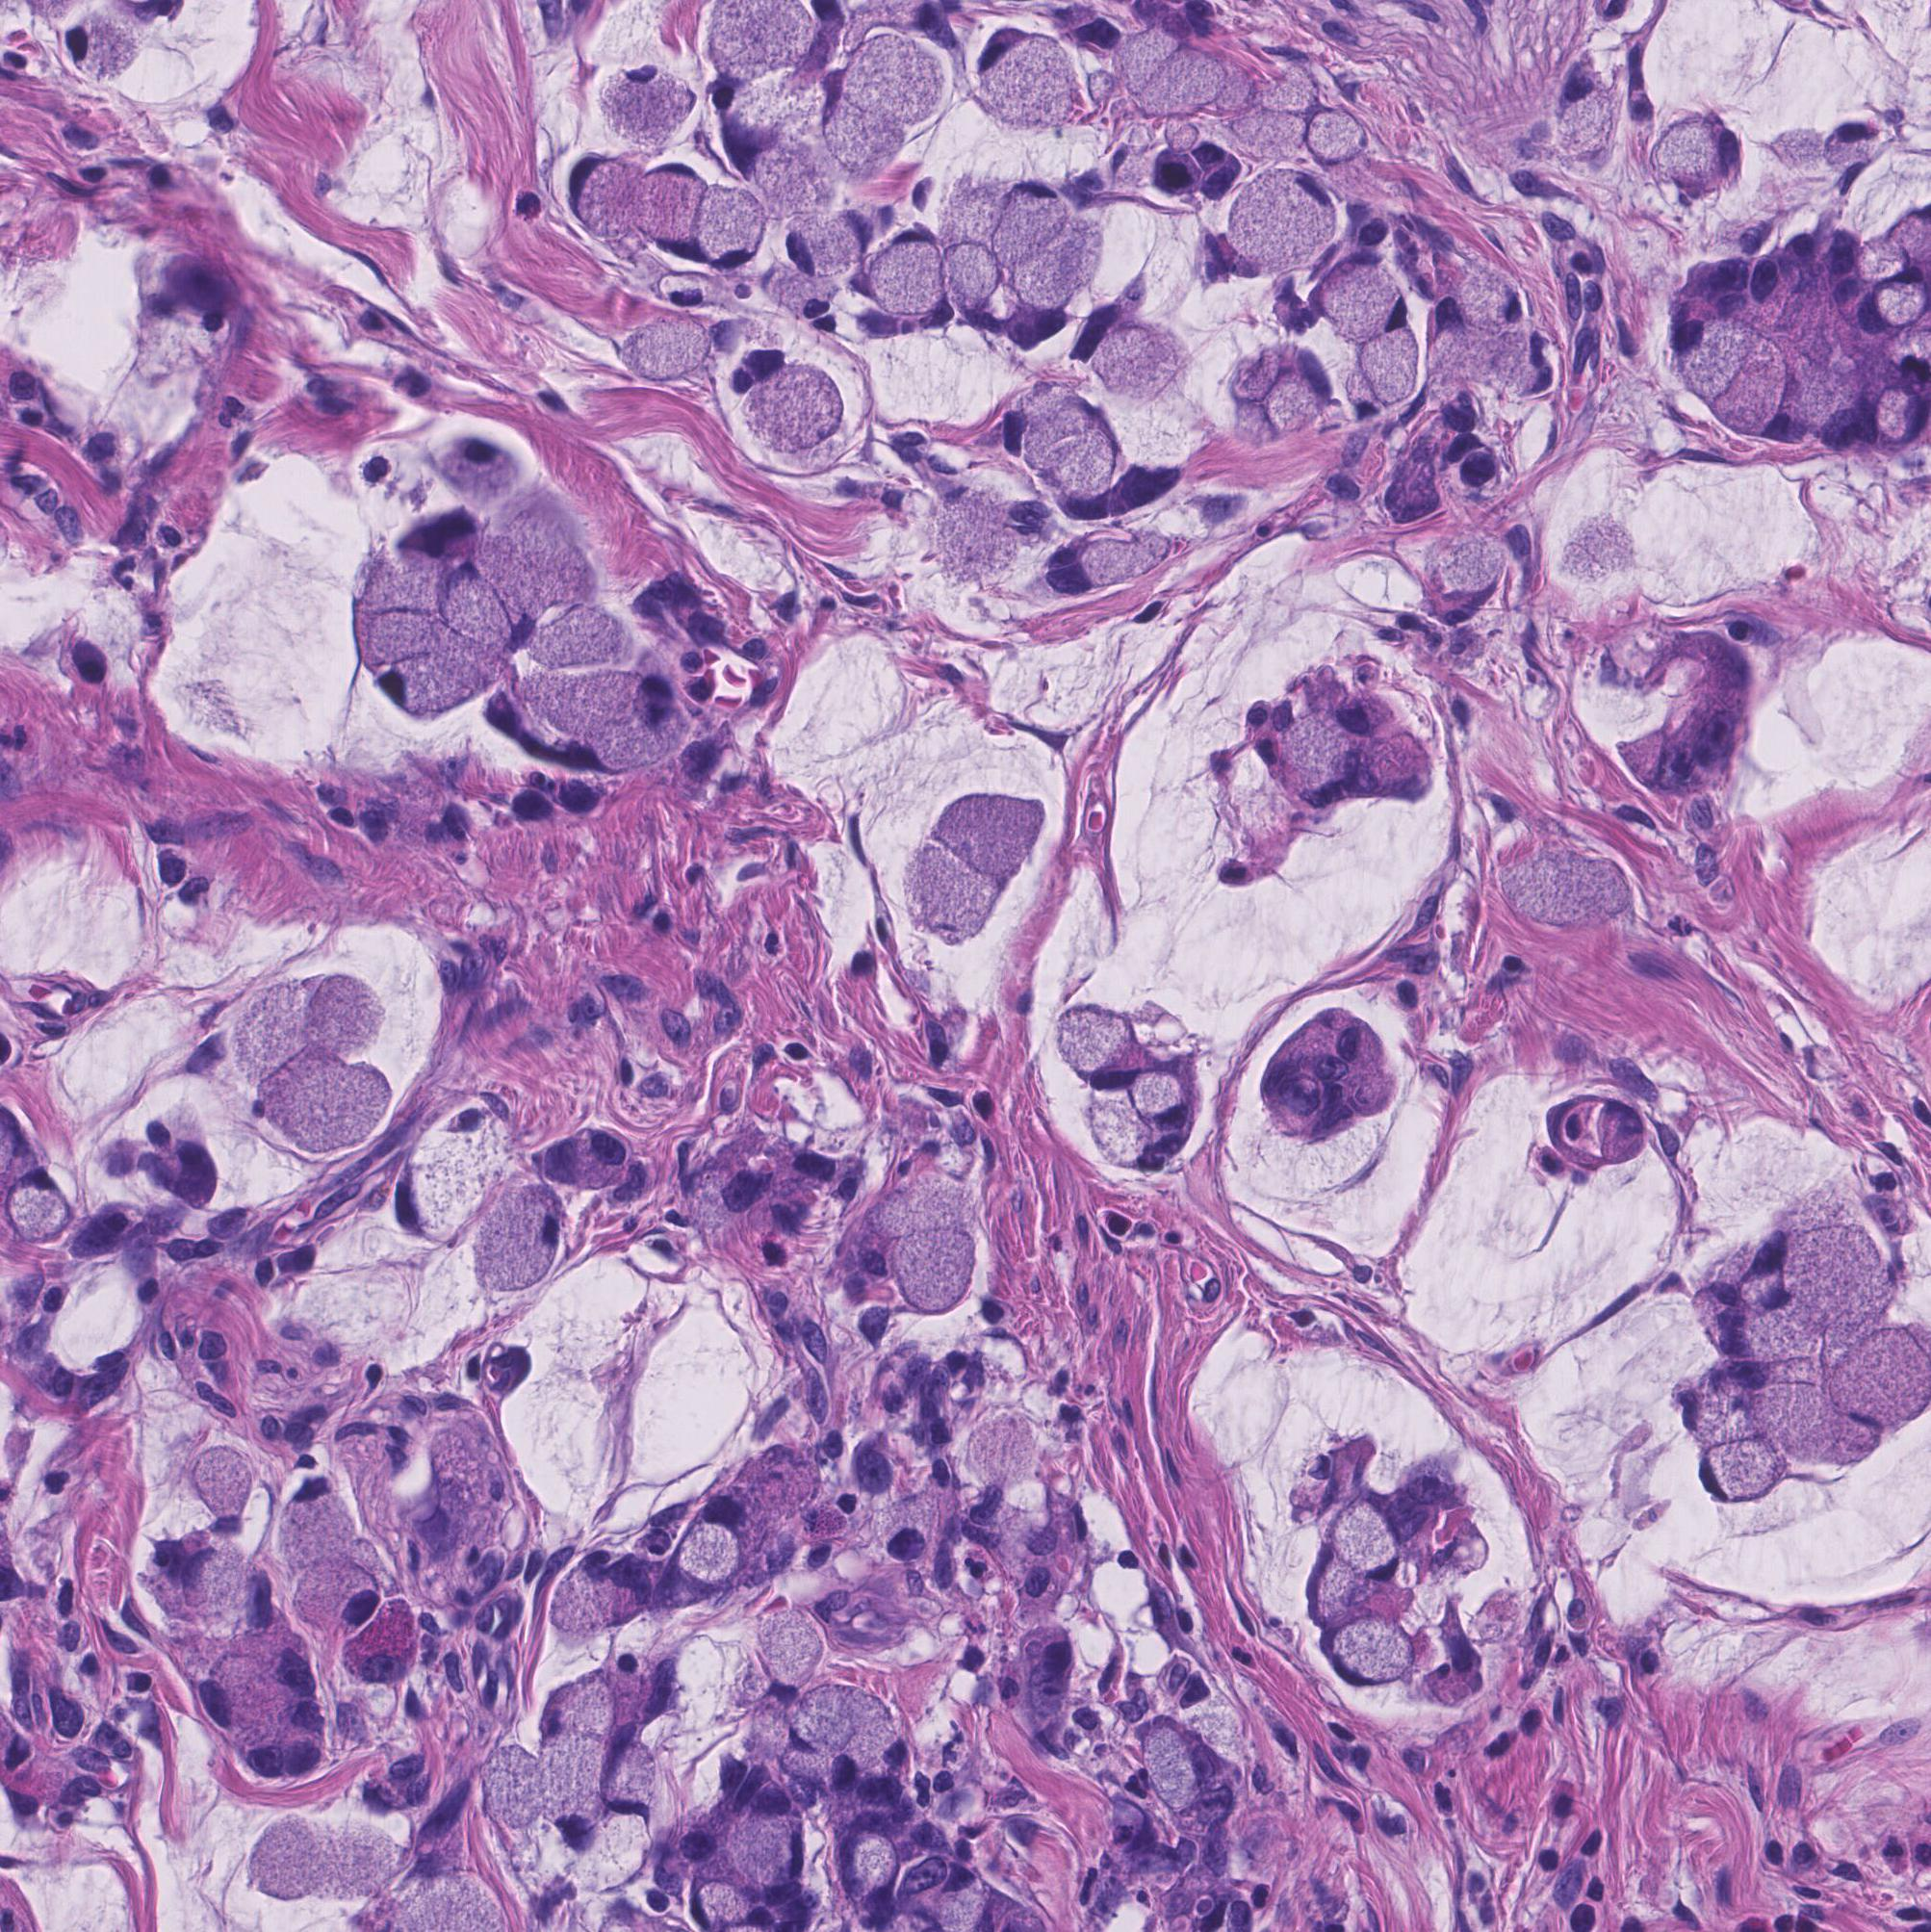ring_cell_cancer: (704, 350, 854, 454), (704, 64, 822, 177), (1001, 401, 1116, 516), (1754, 1223, 1874, 1320), (815, 53, 904, 177), (1236, 154, 1330, 263), (373, 638, 490, 725), (472, 1183, 566, 1282), (971, 27, 1068, 117), (1072, 308, 1167, 398), (1316, 258, 1409, 348), (1137, 1718, 1218, 1819), (1056, 997, 1141, 1091), (1254, 719, 1349, 802), (1247, 357, 1339, 438), (983, 177, 1059, 269), (1655, 110, 1742, 189), (859, 235, 937, 322), (759, 1601, 824, 1702), (679, 1497, 753, 1586), (1668, 320, 1756, 392), (638, 161, 707, 253), (279, 1479, 361, 1557), (295, 1559, 382, 1632), (1798, 364, 1866, 456), (693, 187, 766, 270), (605, 64, 686, 136), (1694, 1434, 1777, 1504), (562, 145, 631, 230), (424, 435, 516, 498), (1326, 1502, 1401, 1580), (582, 1799, 654, 1879), (1133, 1066, 1222, 1126), (835, 1829, 898, 1909), (783, 217, 866, 278), (1333, 1621, 1411, 1685), (50, 19, 133, 74), (741, 1681, 796, 1757), (4, 1177, 71, 1236), (787, 1704, 856, 1755), (1873, 384, 1927, 440), (1874, 267, 1926, 325), (1821, 120, 1869, 166)
